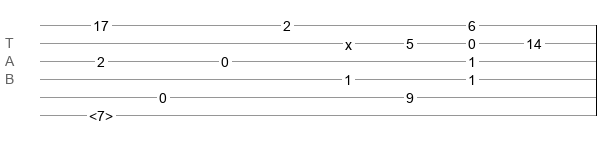0: (159, 90, 167, 100), (221, 54, 229, 64), (468, 36, 476, 46)
1: (344, 72, 352, 82), (468, 72, 476, 82), (468, 54, 476, 64)
14: (526, 36, 542, 46)
17: (93, 18, 109, 28)
2: (97, 54, 105, 64), (283, 18, 291, 28)
5: (406, 36, 414, 46)
6: (468, 18, 476, 28)
9: (406, 90, 414, 100)
harmonic: (89, 108, 113, 118)
x: (345, 37, 352, 45)
